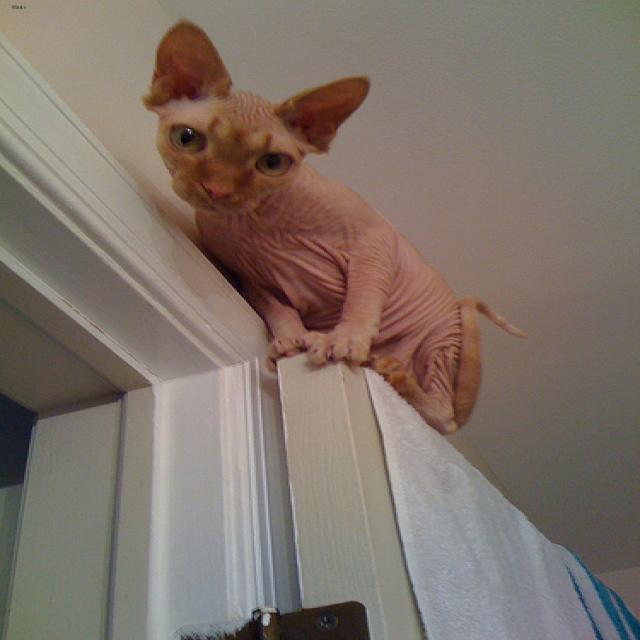Sphynx: (142, 14, 376, 217)
